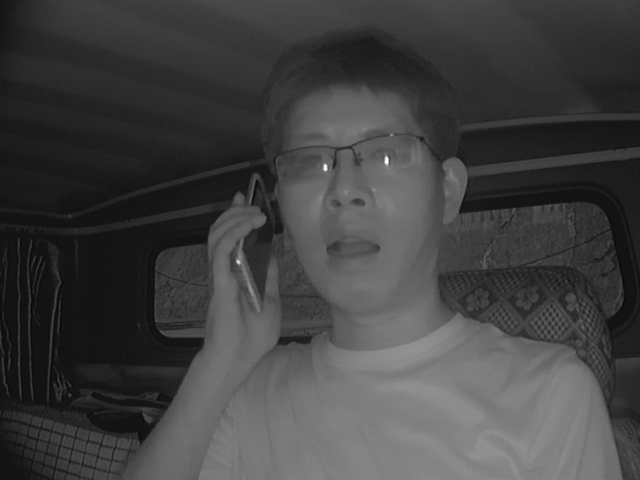hand: (193, 194, 287, 342)
